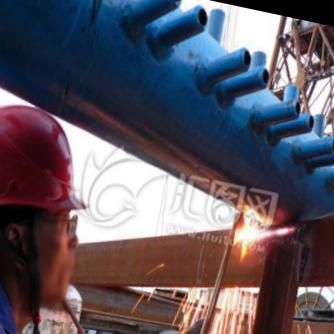helmet: (1, 104, 87, 213)
